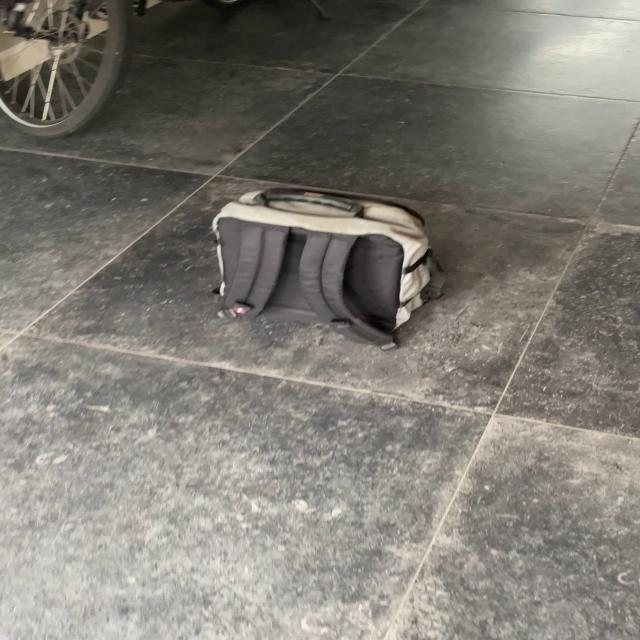backpack: (202, 180, 450, 346)
